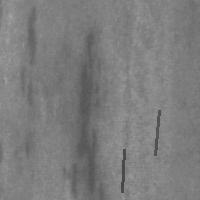inclusion: (65, 29, 104, 199), (21, 4, 44, 68), (16, 64, 38, 111), (153, 108, 161, 157), (120, 147, 126, 194)
